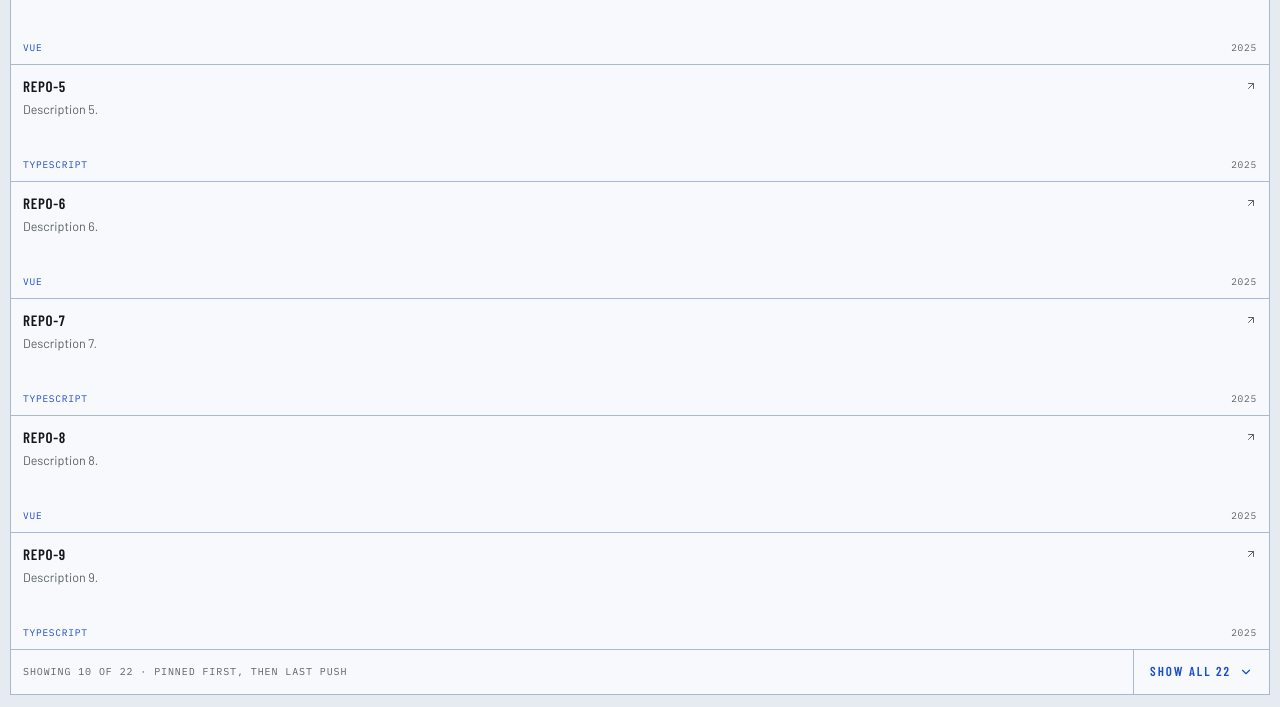
Test: RepositoryGrid › reveals the rest on click and reports the new count
(page scrolled)
Click the button "Show all 22". click: x=1201, y=672
box: [1133,650,1269,694]
(page scrolled)
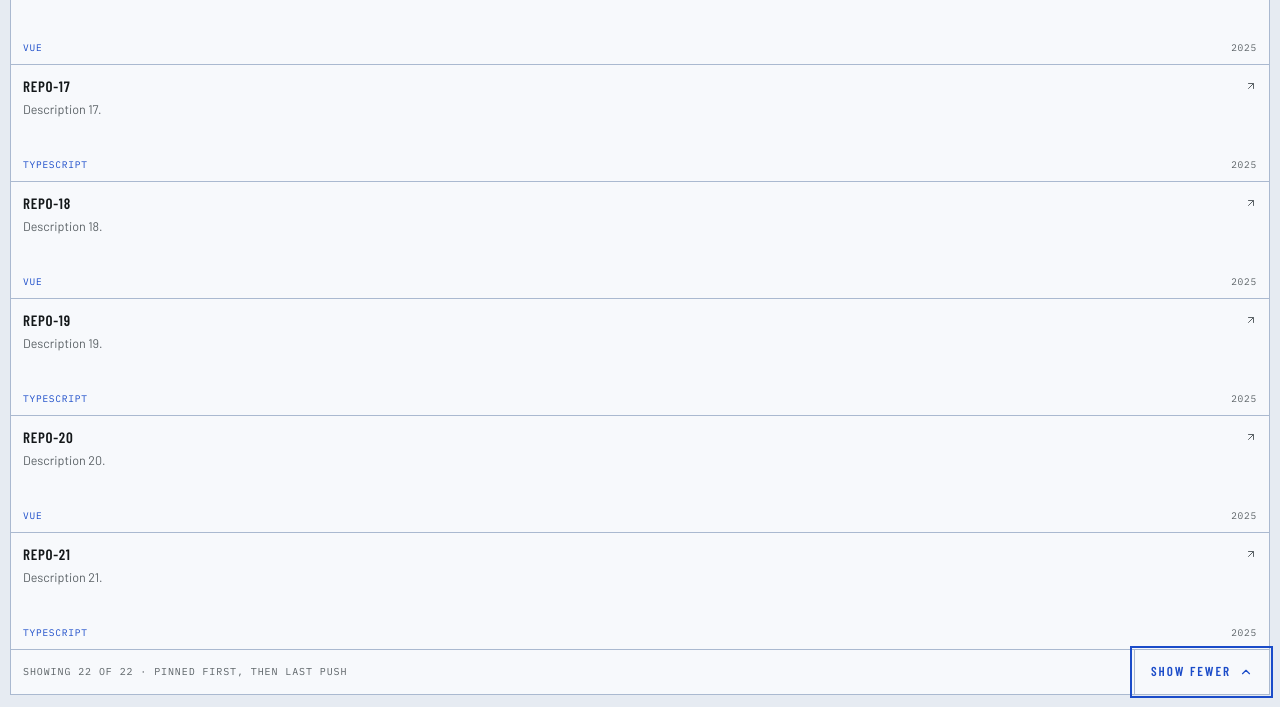
Expected: the link "repo-21 Description 21. TypeScript 2025" is shown, [11,533,1269,649]
Expected: the button "Show fewer" is shown, [1134,650,1269,694]
